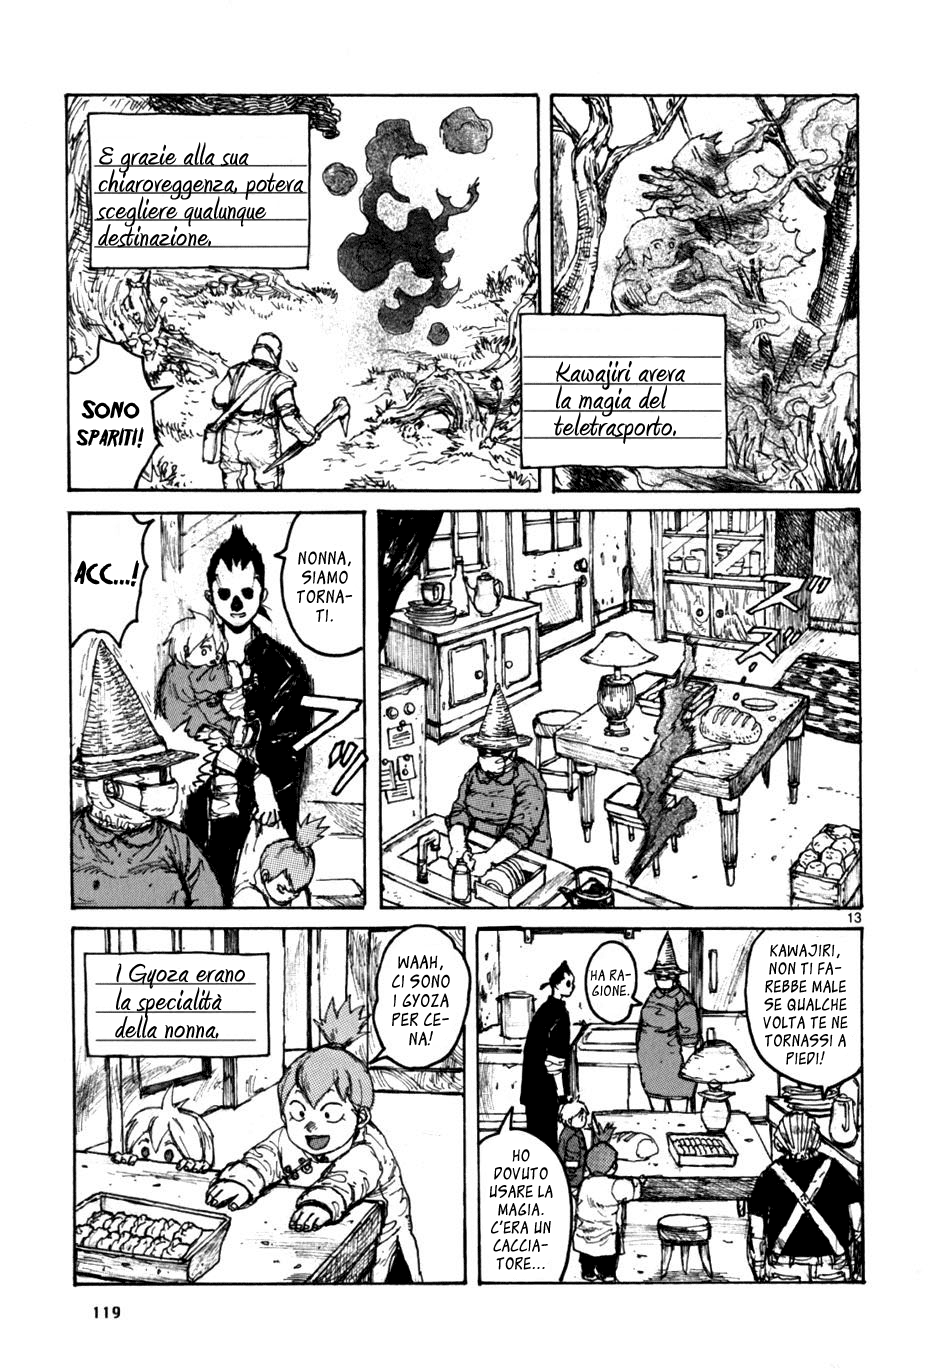Baloon: (92, 109, 311, 267), (521, 315, 729, 469), (84, 952, 273, 1061), (746, 927, 863, 1098), (66, 334, 173, 484), (367, 925, 473, 1075), (477, 1111, 571, 1279), (273, 509, 365, 661), (71, 511, 148, 640), (584, 944, 639, 1023)
Vignetta: (375, 511, 865, 911), (66, 94, 544, 490), (71, 929, 467, 1284), (475, 927, 865, 1279), (550, 93, 865, 492), (66, 511, 365, 907)
